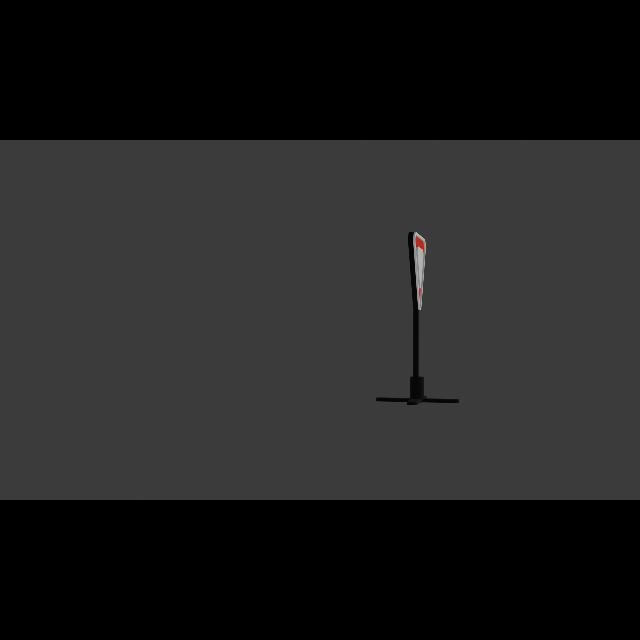sign_yield: (411, 234, 427, 312)
